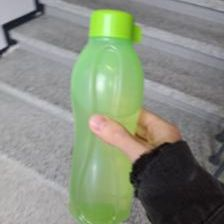bottle: (68, 6, 147, 224)
